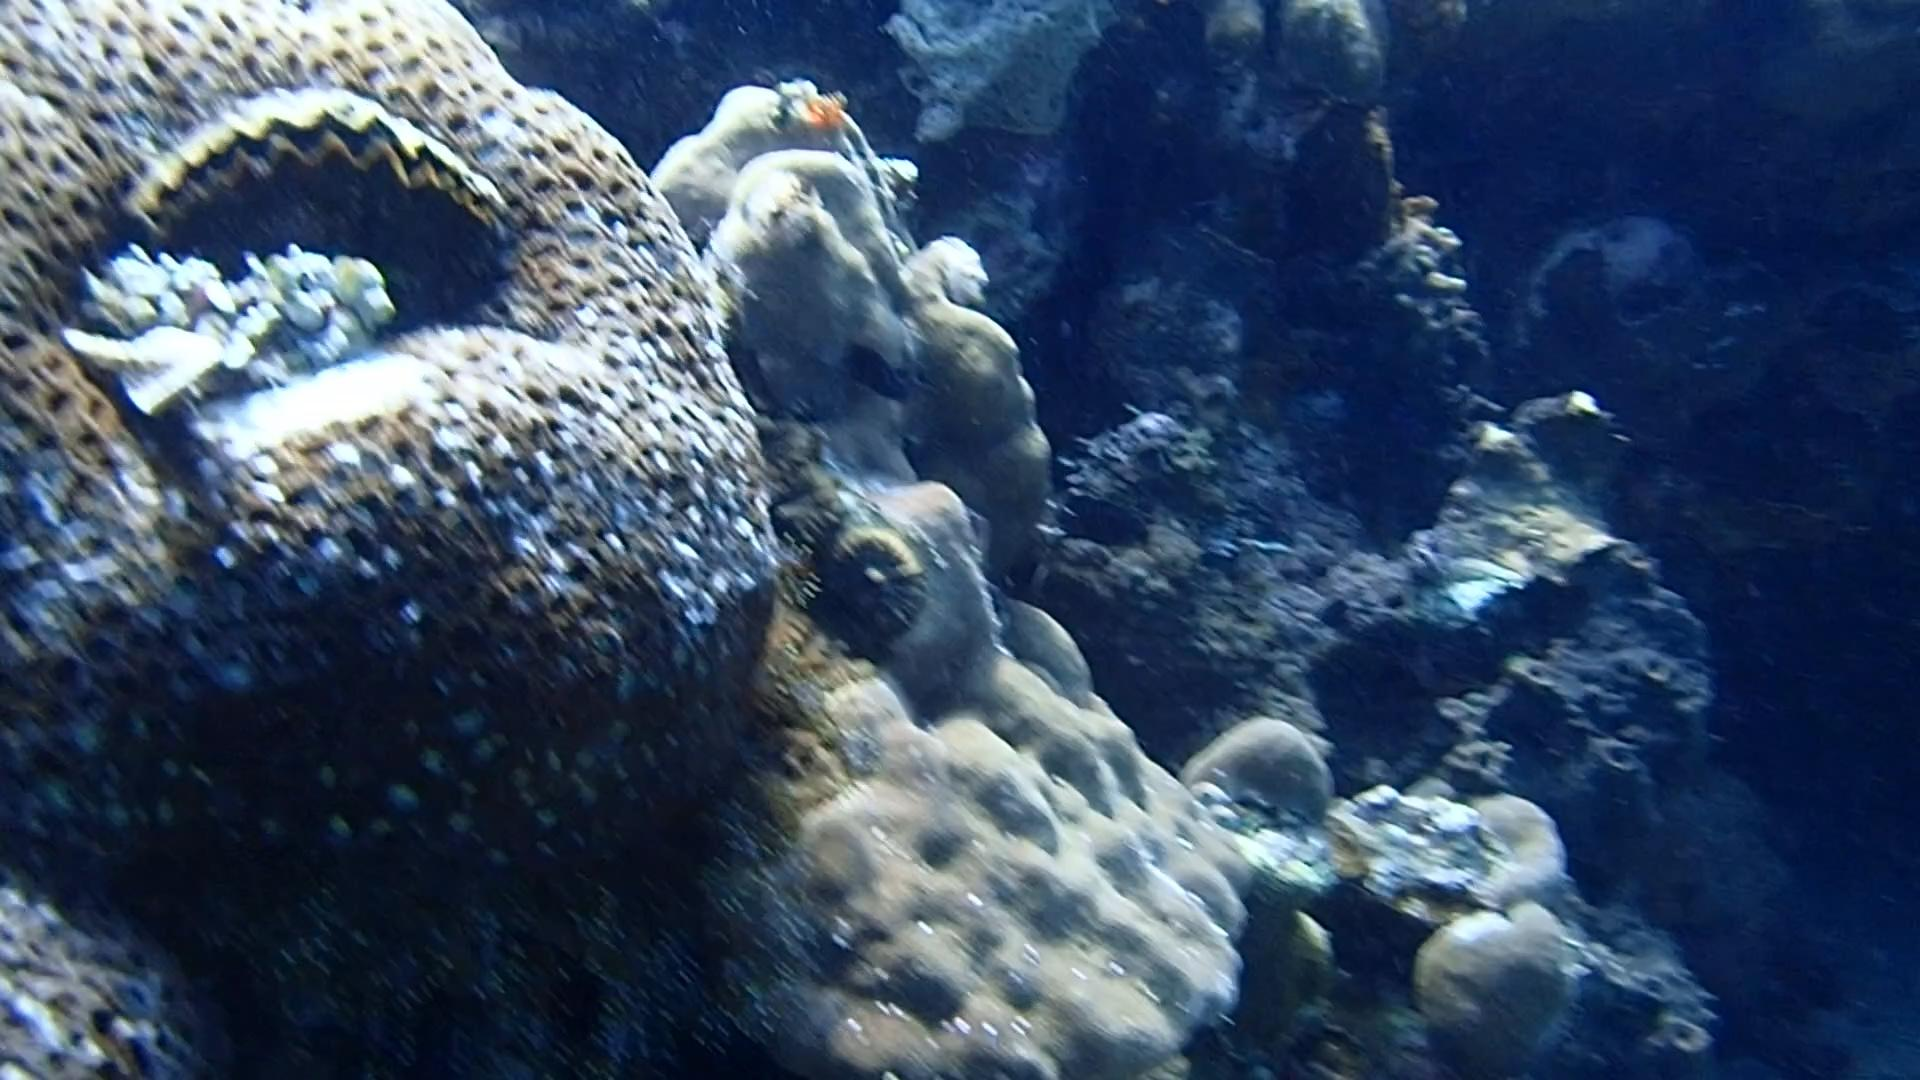Dark Fish: (1027, 472, 1174, 562), (833, 323, 911, 411)
